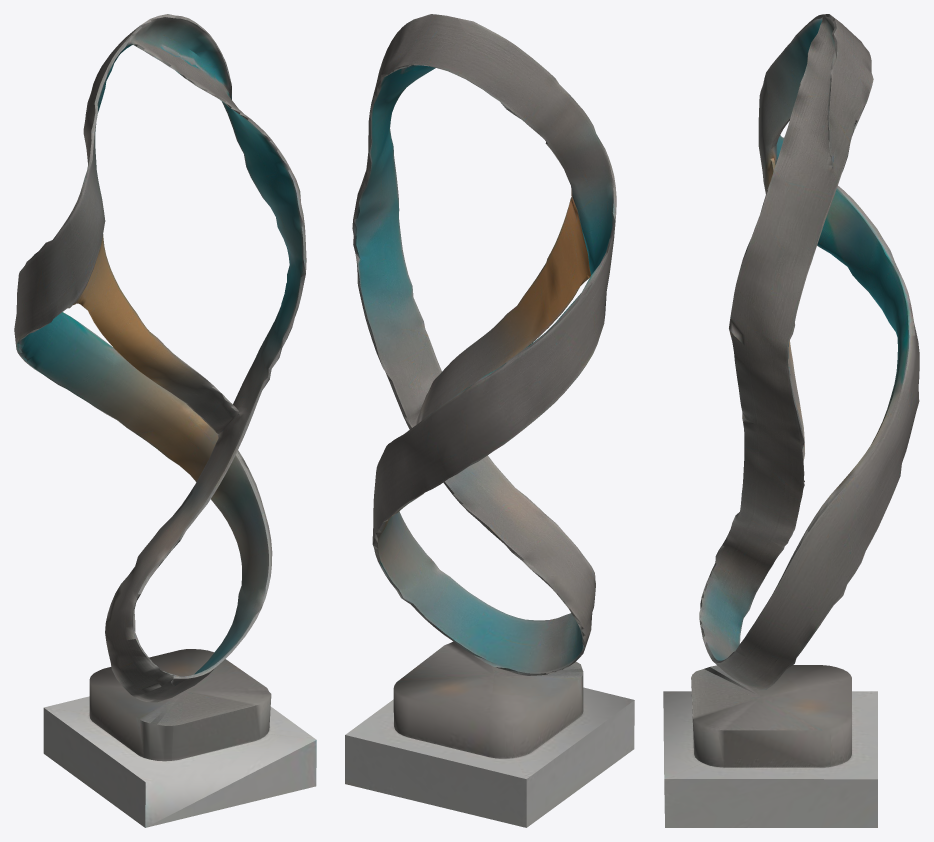
Rendered from sculpture_ribbon.glb.
The picture shows the model from 3 angles, left to right: view 1: azimuth 30°, elevation 25°; view 2: azimuth 150°, elevation 25°; view 3: azimuth 270°, elevation 25°; orthographic projection. The views are drawn at different scales.
Parts seen in each view (by area): view 1: sculpture_ribbon_lod0; view 2: sculpture_ribbon_lod0; view 3: sculpture_ribbon_lod0.
Boxes of the visible parts, x1,y1,x2,y2 form: sculpture_ribbon_lod0: [14, 14, 316, 827]; sculpture_ribbon_lod0: [345, 14, 634, 827]; sculpture_ribbon_lod0: [663, 14, 919, 827].
Size of what is drawn, in the model's own units: 1.44 by 4 by 1.21.
Materials: 1 (1 with a texture image).
